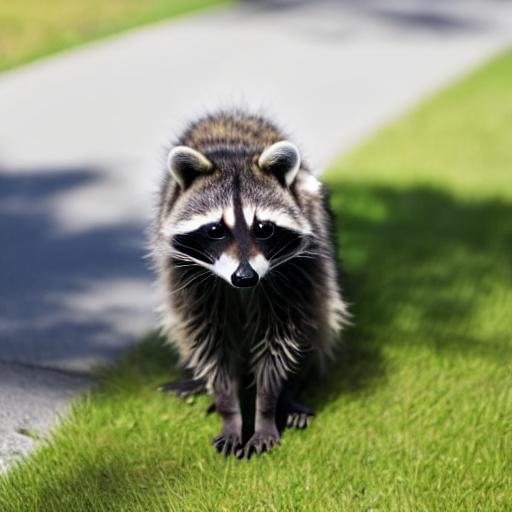raccoon: (147, 96, 357, 425)
